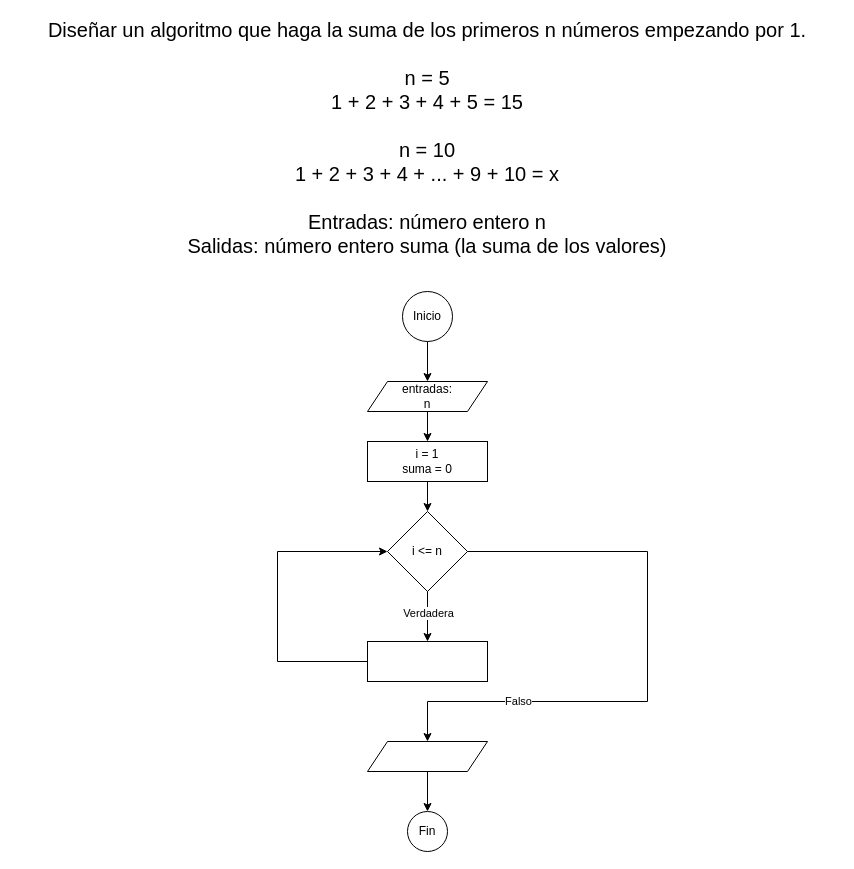
This 854x869 diagram has some shape labels left out. Here are the shapes that lost their labels. From the top down, the centre of each, then its label:
At point 427,661: "suma += i i++".
At point 427,756: "salida: suma".
